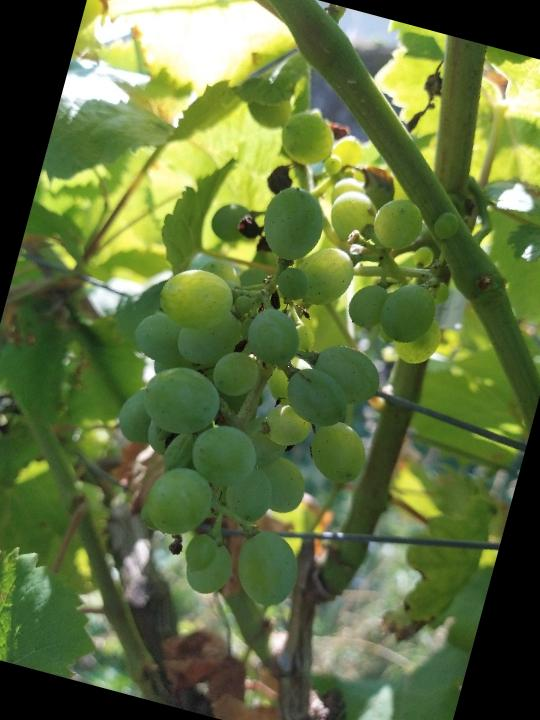grape: (74, 72, 492, 637)
